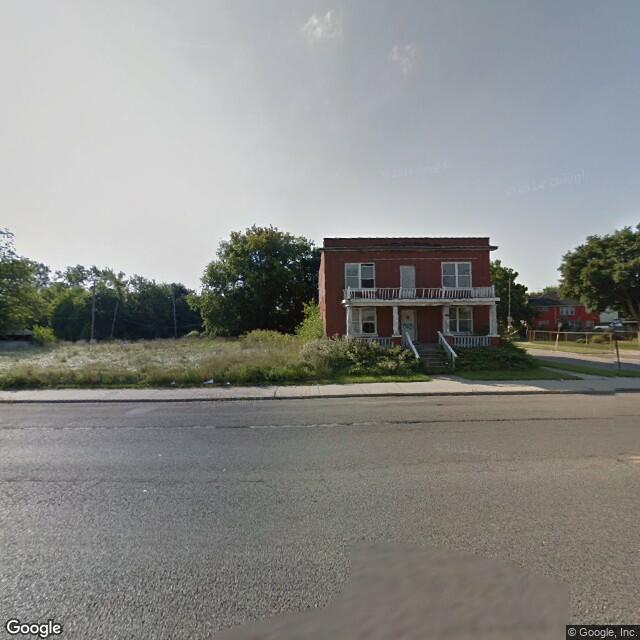litter: (205, 377, 216, 385), (225, 379, 233, 389), (170, 378, 175, 388), (557, 375, 565, 379)
